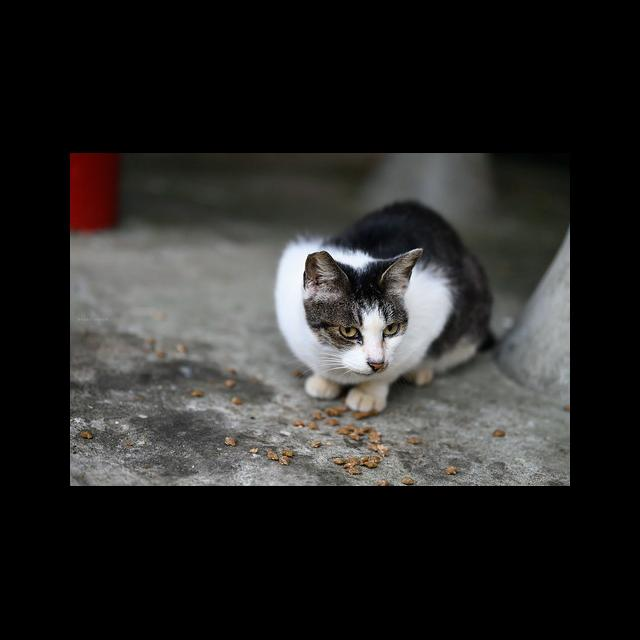animals: (277, 203, 499, 412)
